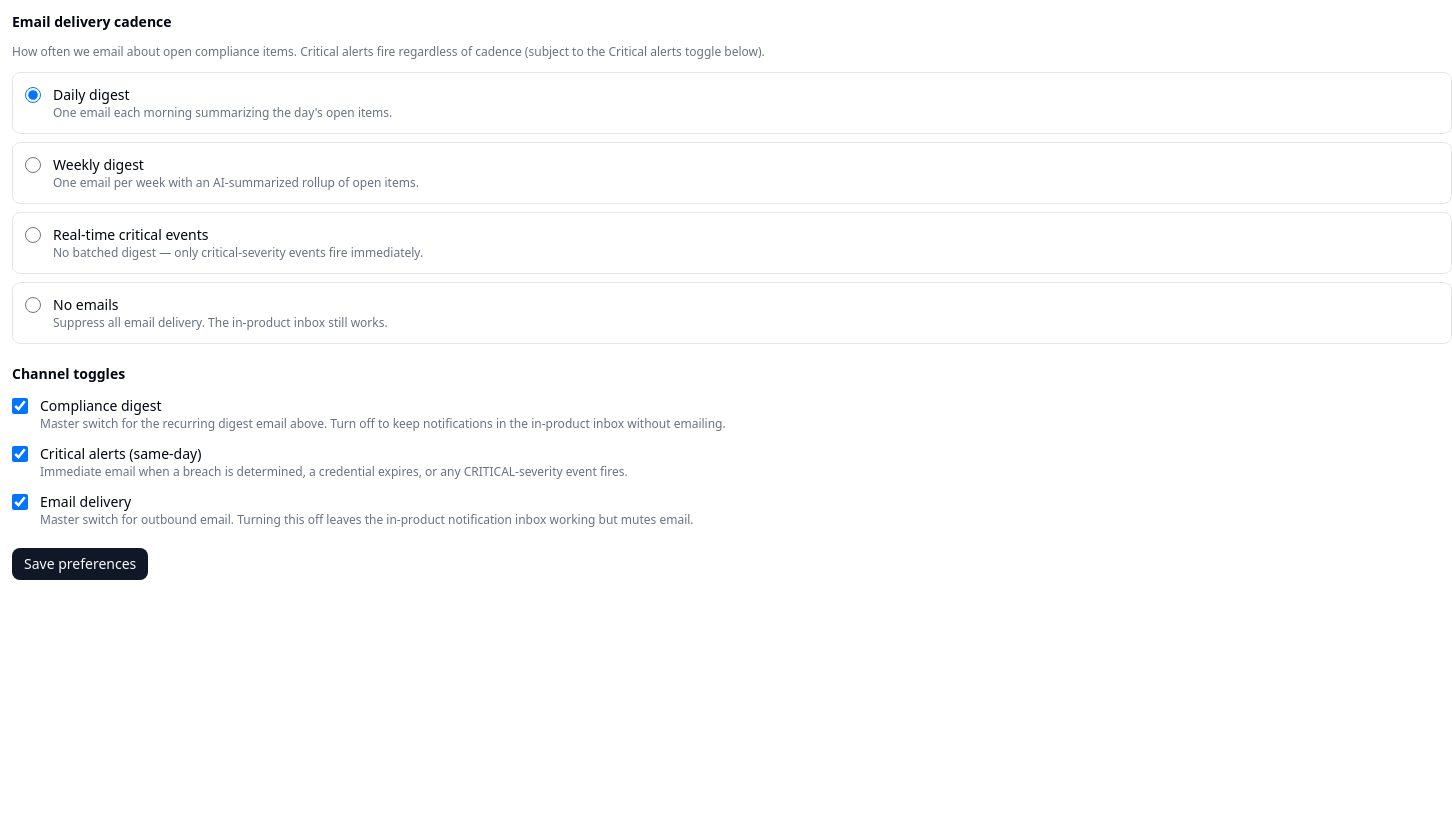
<NotificationPreferencesForm> › submits all cadence + weekly fields through the server action
The width and height of the screenshot is (1452, 822).
Switch to weekly so the day/time inputs show up, then change them.
Step 1. Click the radio button labelled "Weekly digest" → {"x": 33, "y": 165}, box 25,157 -> 41,173
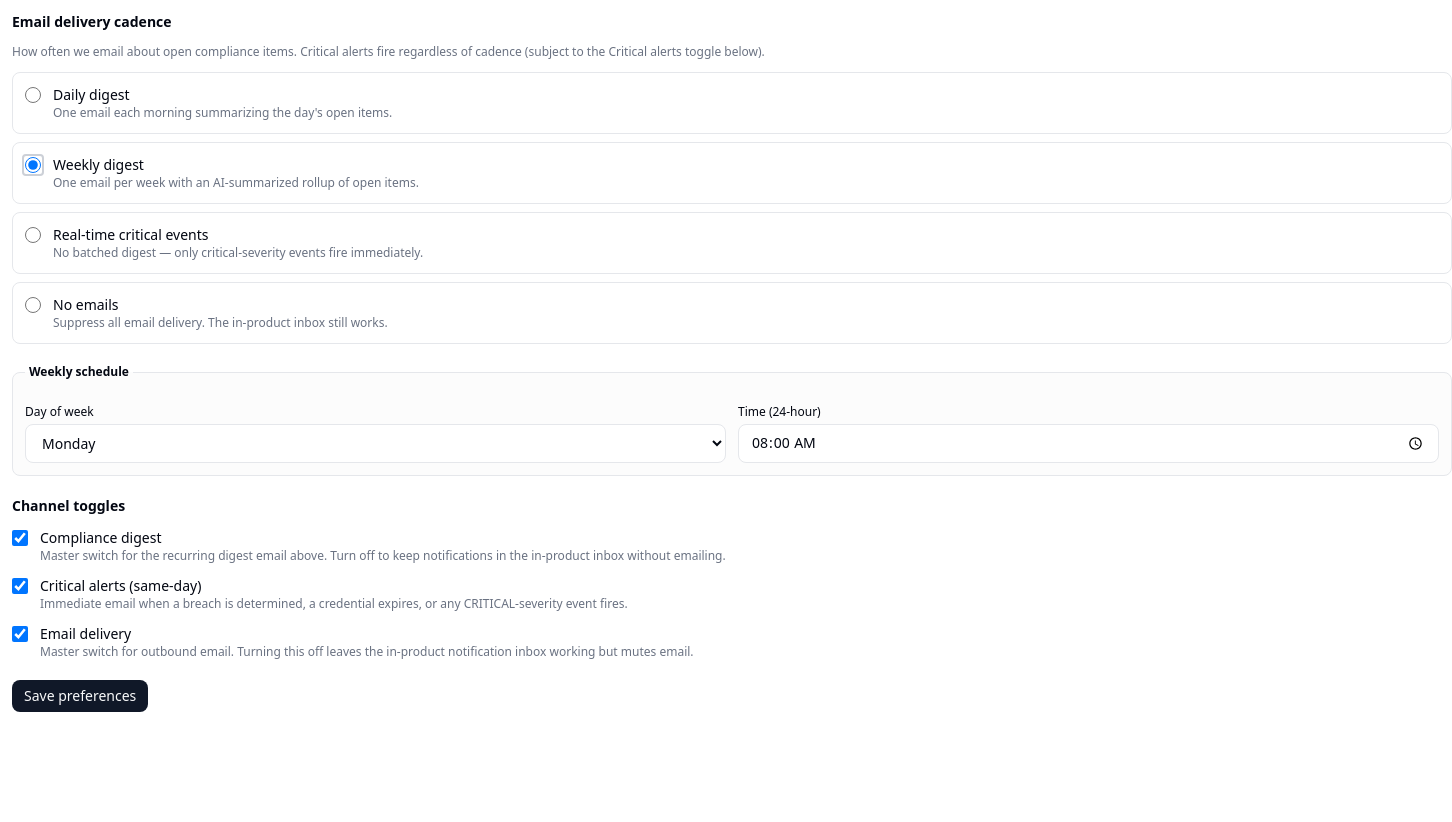
Step 2. Select "Friday" in the dropdown labelled "Day of week" → {"x": 376, "y": 444}, box 25,424 -> 726,463
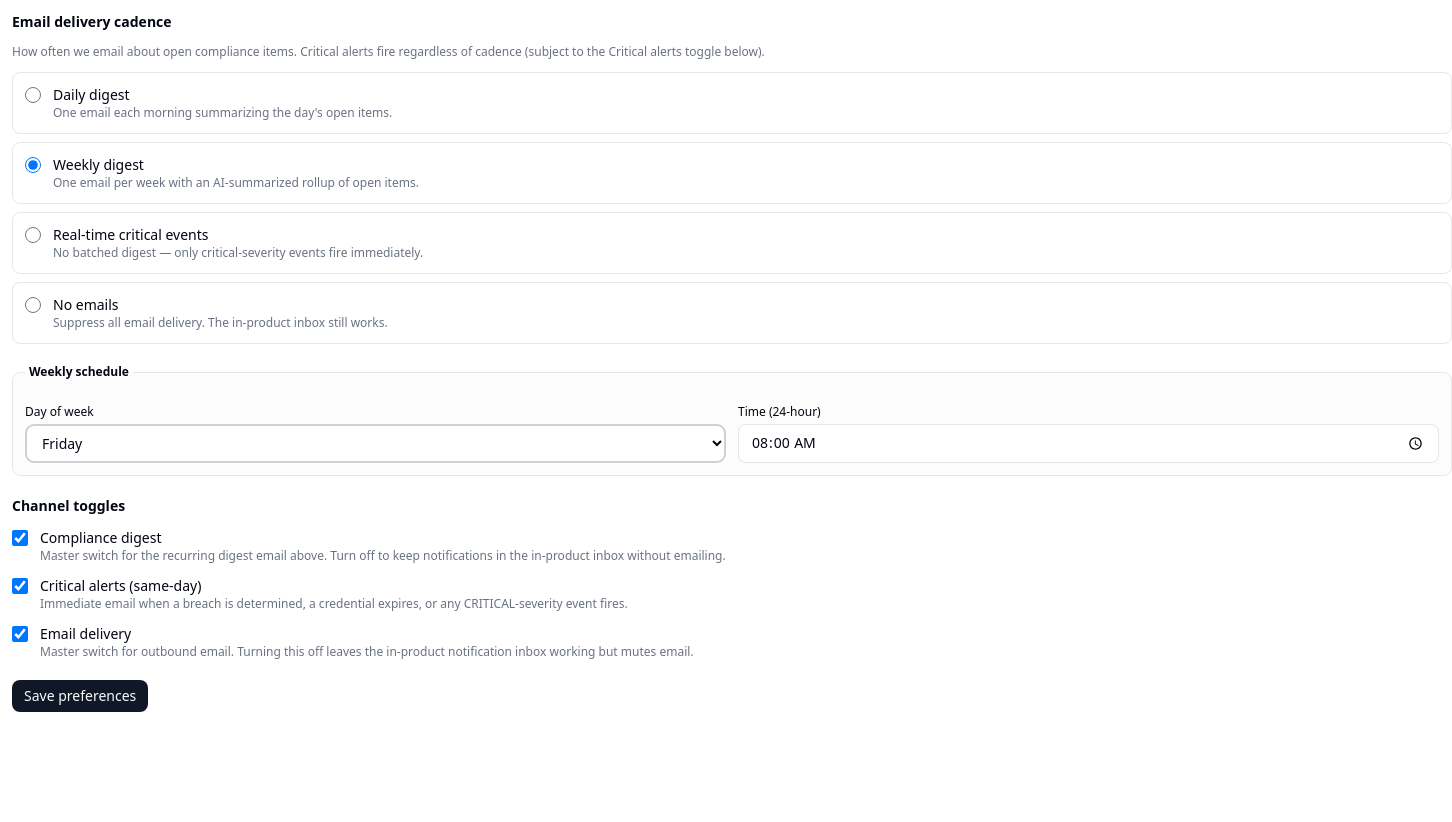
Step 3. Replace the text in the time field labelled "Time (24-hour)" with "09:30" → {"x": 1088, "y": 443}, box 738,424 -> 1439,463
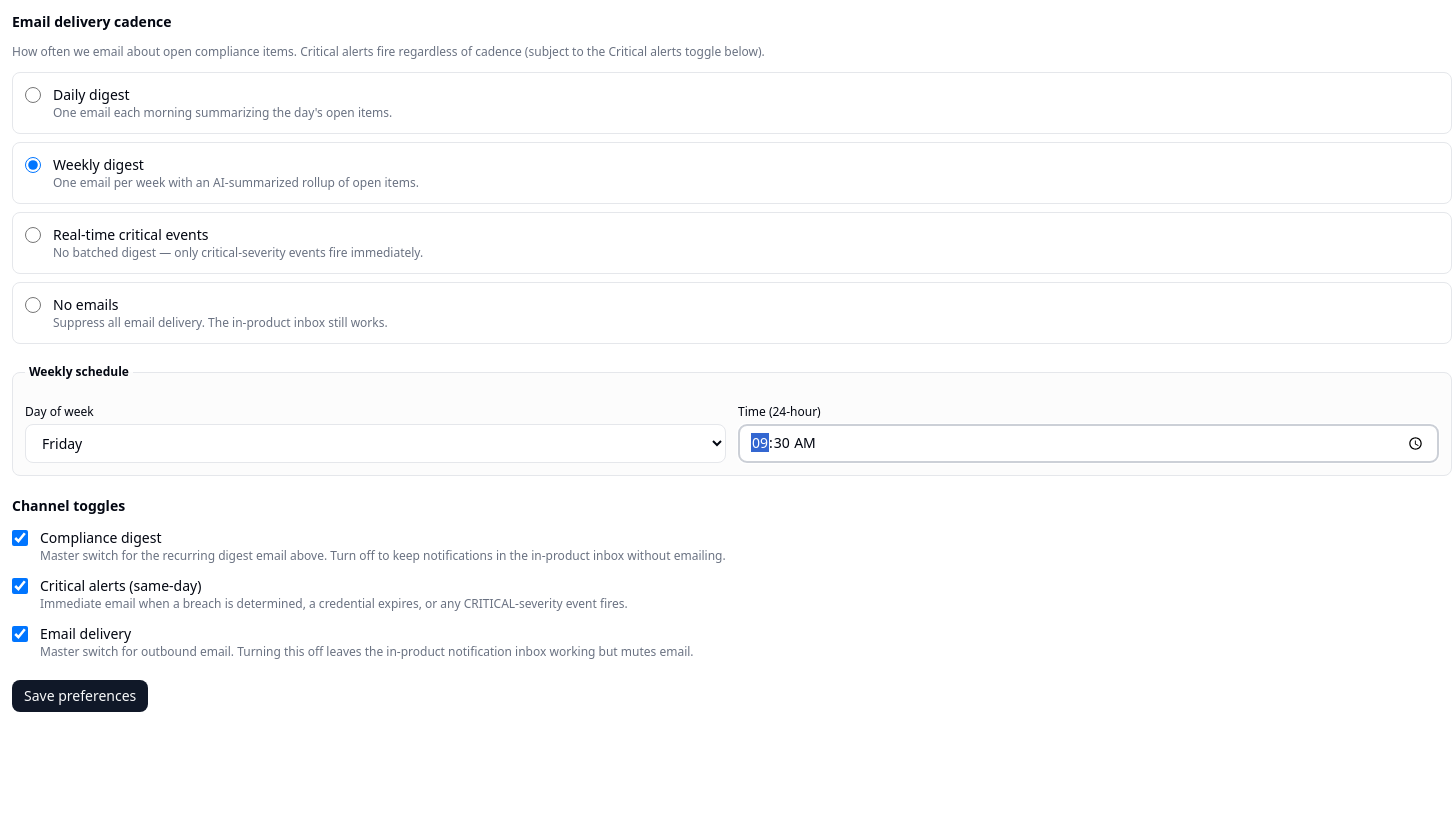
Step 4. Click the button "Save preferences" → {"x": 80, "y": 696}, box 12,680 -> 148,712
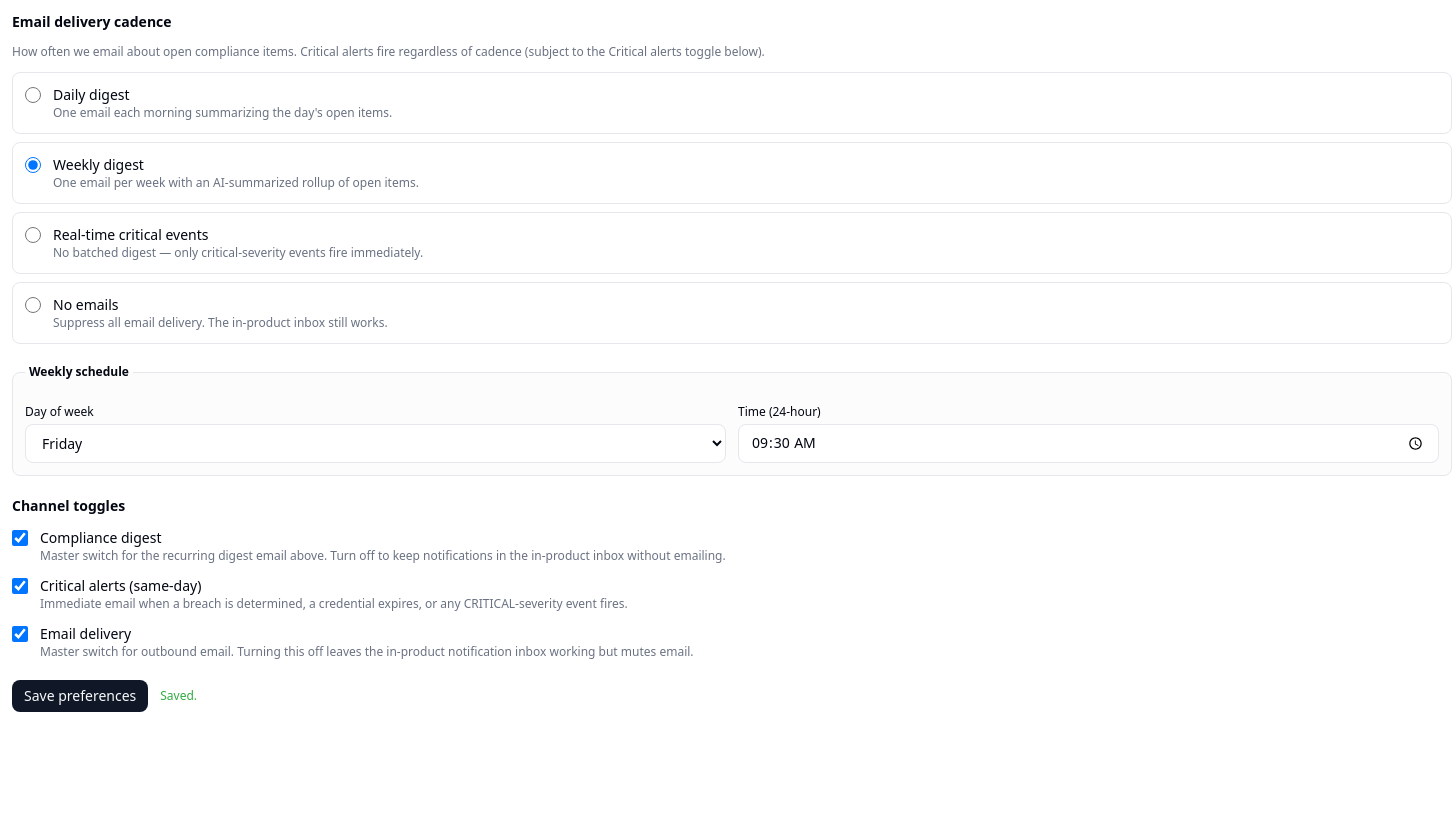
Now the text "Saved." is shown, box 160,688 -> 197,704
